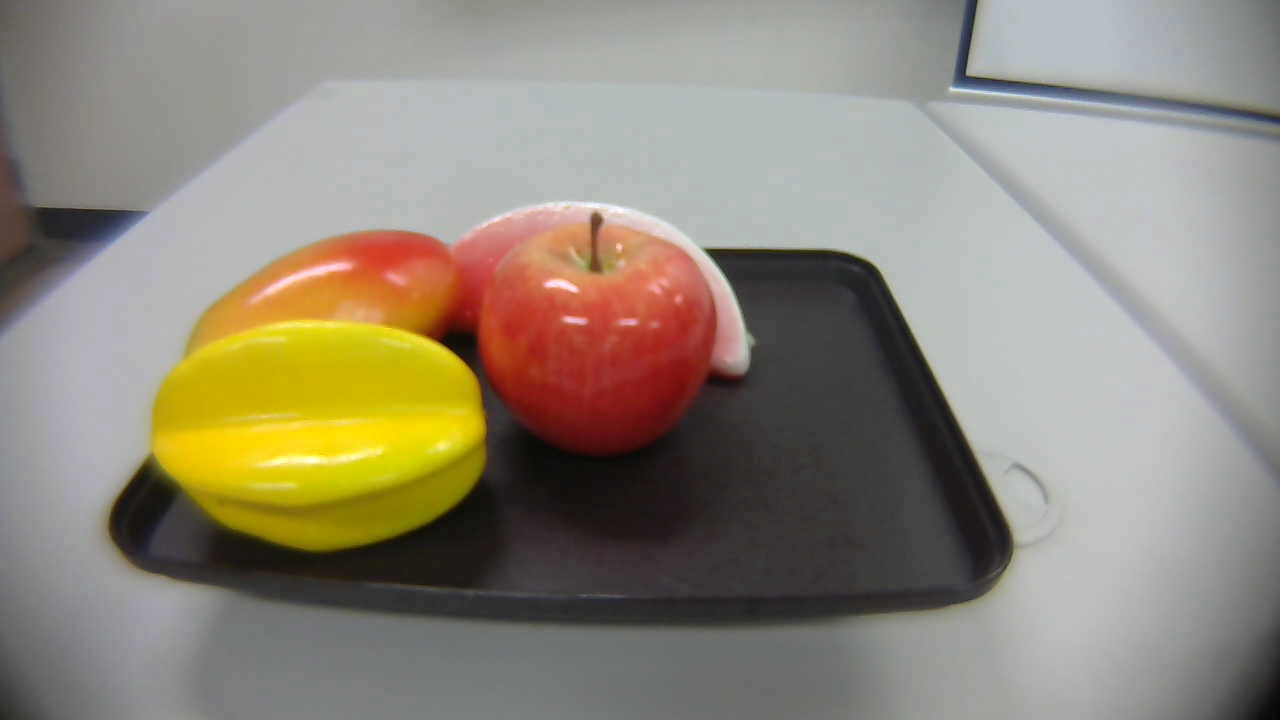red apple: (475, 209, 715, 459)
red mango: (178, 231, 458, 378)
star fruit: (133, 311, 502, 556)
water melon: (442, 196, 770, 394)
